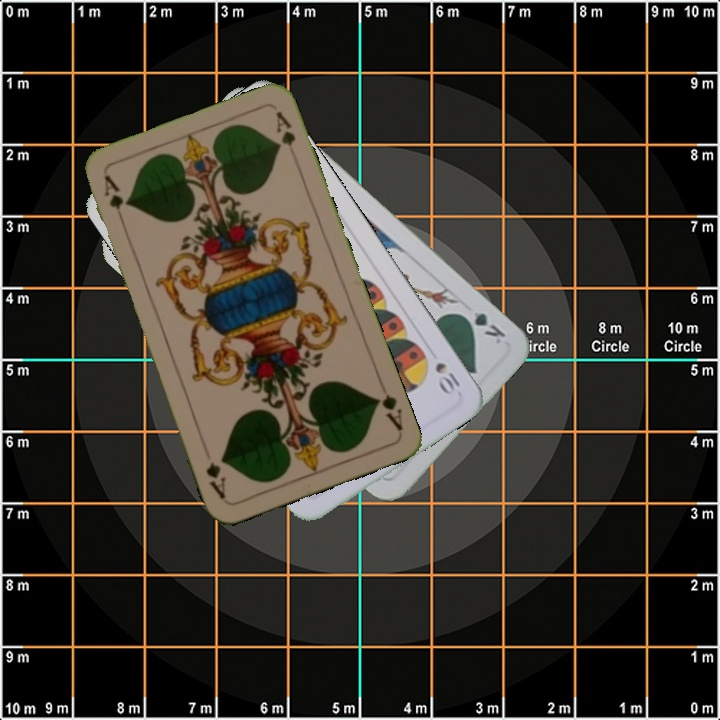GA: (100, 170, 128, 228), (370, 390, 405, 434)
GK: (455, 307, 509, 347)
S10: (431, 358, 463, 399)
